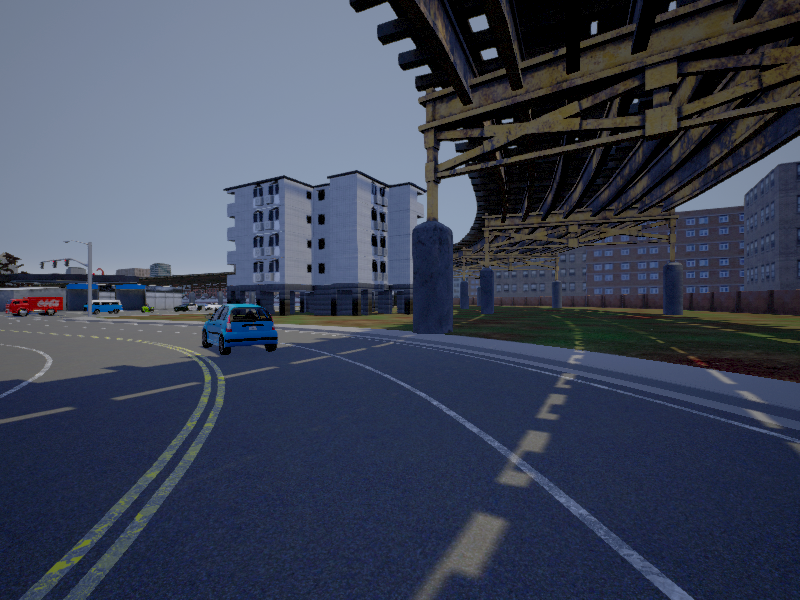Benign: (203, 304, 279, 354), (5, 298, 64, 316), (84, 301, 124, 316), (177, 302, 203, 313)
